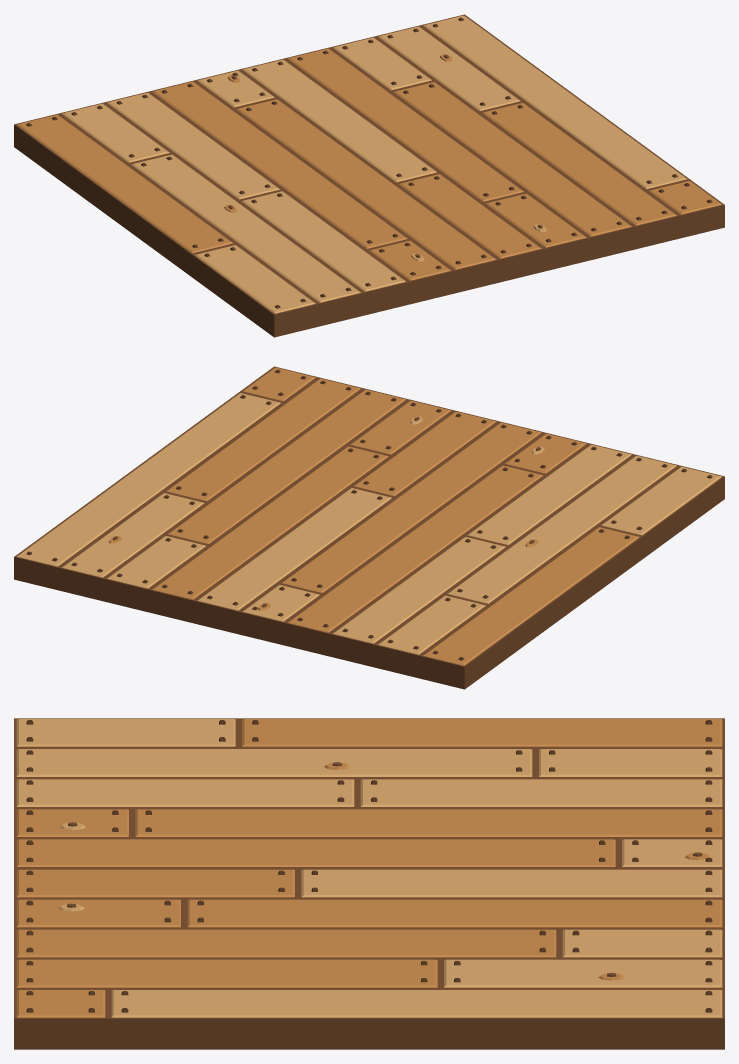
Rendered from ZoneKitFloor.fbx.
The picture shows the model from 3 angles, top to bottom: view 1: azimuth 30°, elevation 25°; view 2: azimuth 150°, elevation 25°; view 3: azimuth 270°, elevation 25°; orthographic projection. The views are drawn at different scales.
Visible parts, largest first — view 1: ZoneKitFloor; view 2: ZoneKitFloor; view 3: ZoneKitFloor.
Boxes of the visible parts, box(x1,y1,x2,y2) form: ZoneKitFloor: box(14, 14, 724, 337); ZoneKitFloor: box(14, 366, 724, 689); ZoneKitFloor: box(14, 718, 724, 1049).
Bounding box in the file's own units: 2.99 × 0.167 × 2.99.
